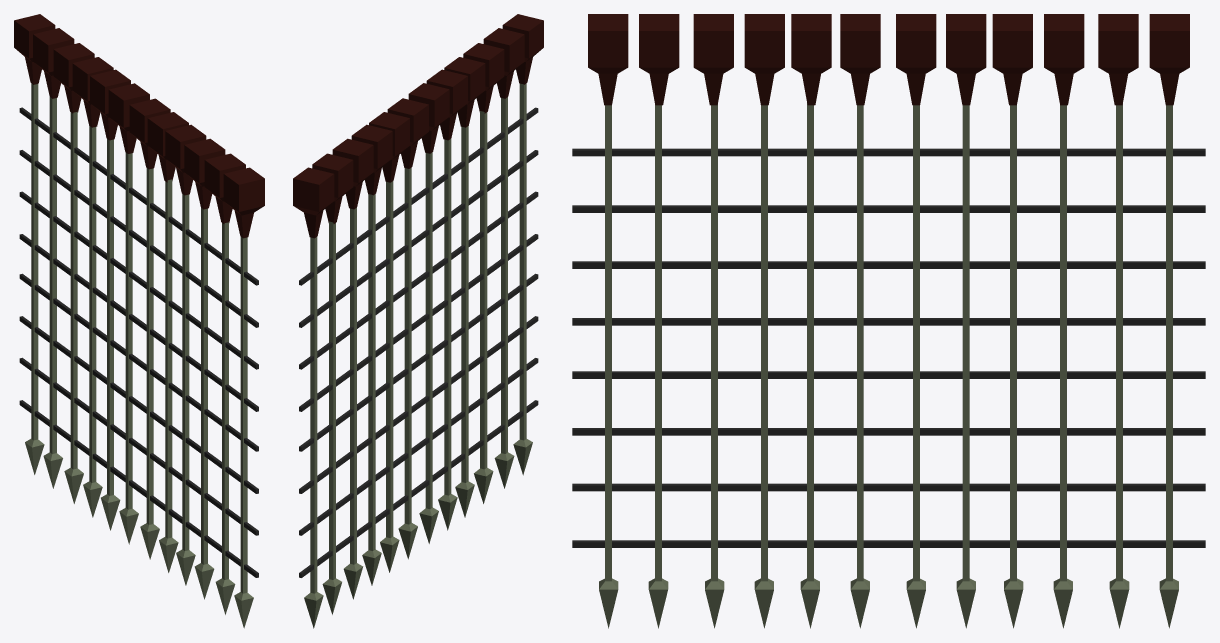
File: Door.obj
The picture shows the model from 3 angles, left to right: view 1: azimuth 30°, elevation 25°; view 2: azimuth 150°, elevation 25°; view 3: azimuth 270°, elevation 25°; orthographic projection. The views are drawn at different scales.
Parts seen in each view (by area): view 1: object 3, Cube.025_Cube.029, Cube.012_Cube.014; view 2: object 3, Cube.025_Cube.029, Cube.012_Cube.014; view 3: object 3, Cube.012_Cube.014, Cube.025_Cube.029.
Part boxes in pixels (<box>): object 3: <box>25,83,253,628</box>; Cube.025_Cube.029: <box>14,14,264,238</box>; Cube.012_Cube.014: <box>19,107,258,577</box>; object 3: <box>304,83,532,628</box>; Cube.025_Cube.029: <box>293,14,543,238</box>; Cube.012_Cube.014: <box>299,107,538,577</box>; object 3: <box>599,103,1178,628</box>; Cube.012_Cube.014: <box>572,148,1205,547</box>; Cube.025_Cube.029: <box>588,14,1189,105</box>.
Bounding box in the file's own units: 0.7709 × 12.79 × 12.11.
